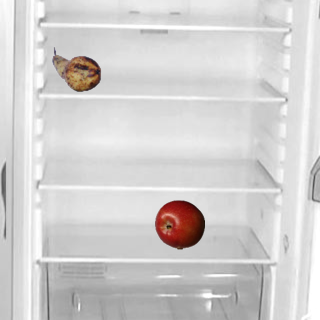Apple Braeburn: (154, 199, 204, 249)
Pear Abate: (51, 44, 101, 94)
